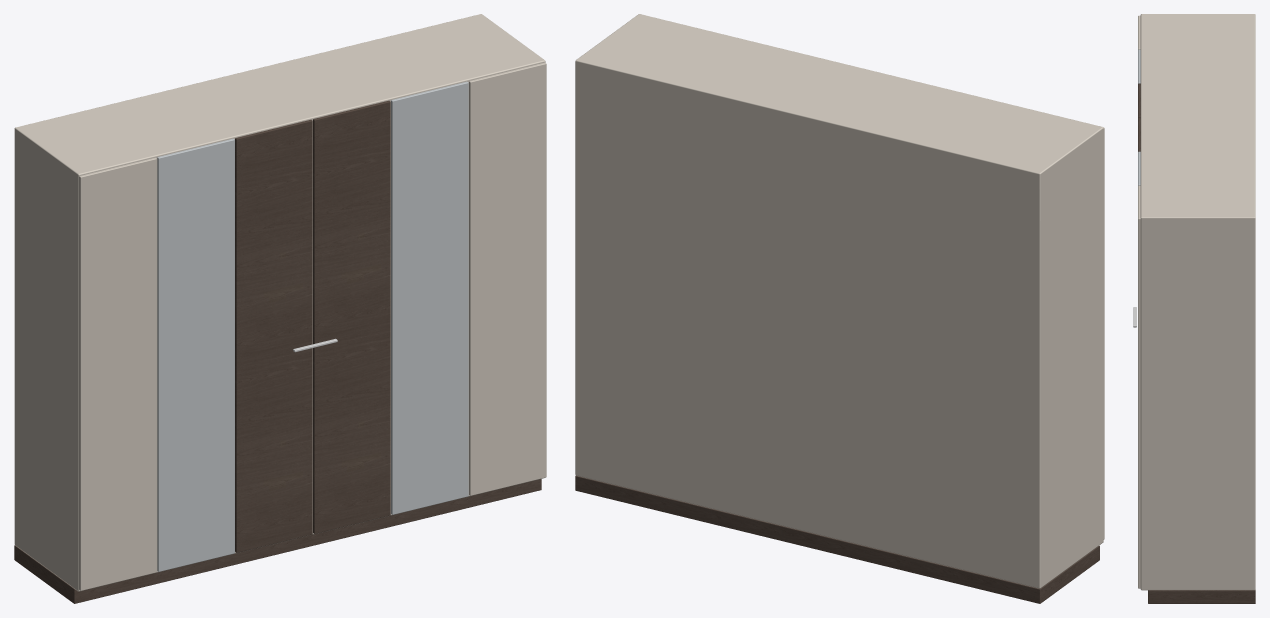
Rendered from talya-bedset-with-wardrobe--wardrobe.glb.
The picture shows the model from 3 angles, left to right: view 1: azimuth 30°, elevation 25°; view 2: azimuth 150°, elevation 25°; view 3: azimuth 270°, elevation 25°; orthographic projection. The views are drawn at different scales.
Parts seen in each view (by area): view 1: body, door1, door0, door4, door5, door2, door3, plinth; view 2: body, plinth, door0; view 3: body, plinth, door5.
Part boxes in pixels (box(x1,y1,x2,y2)): body: box(14, 14, 545, 591); door1: box(157, 138, 234, 571); door0: box(79, 157, 156, 590); door4: box(391, 81, 468, 514); door5: box(469, 62, 546, 495); door2: box(235, 119, 312, 552); door3: box(313, 100, 390, 533); plinth: box(14, 479, 541, 603); body: box(575, 14, 1103, 588); plinth: box(575, 475, 1099, 603); door0: box(1103, 127, 1104, 539); body: box(1140, 14, 1255, 590); plinth: box(1148, 590, 1255, 603); door5: box(1138, 185, 1140, 588).
Bounding box in the file's own units: 2.6 × 2.3 × 0.66.
4 materials, 1 textured.
